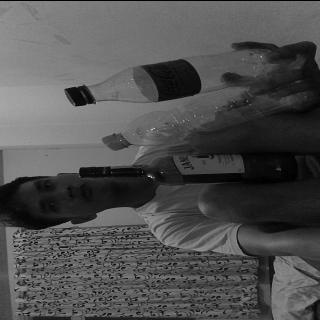objects: (78, 150, 298, 184)
plastic_bottles: (102, 77, 309, 149), (61, 46, 288, 106)
